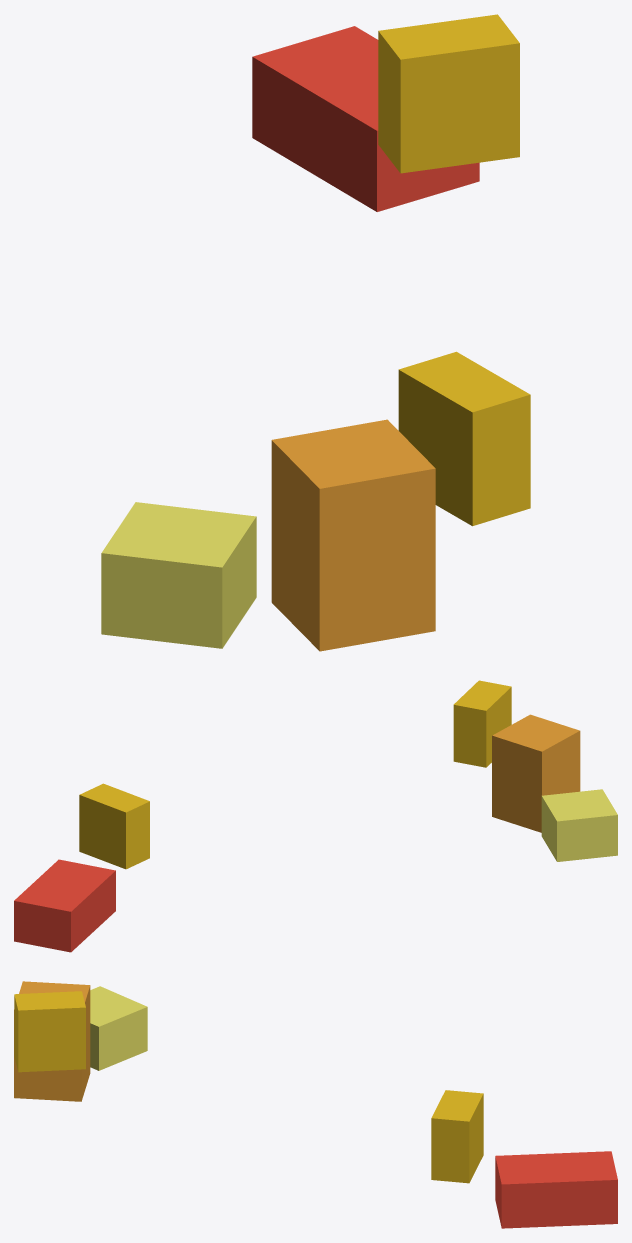
Rendered from Lvl02_Prototype.fbx.
3 renders of one model, top to bottom at view 1: azimuth 30°, elevation 25°; view 2: azimuth 150°, elevation 25°; view 3: azimuth 270°, elevation 25°, orthographic. The views are drawn at different scales.
Parts seen in each view (by area): view 1: HouseSET_lvl02; view 2: HouseSET_lvl02; view 3: HouseSET_lvl02.
Part boxes in pixels (box(x1,y1,x2,y2)): HouseSET_lvl02: box(101, 14, 530, 651); HouseSET_lvl02: box(14, 680, 617, 952); HouseSET_lvl02: box(14, 981, 617, 1228).
Bounding box in the file's own units: 4814 × 1289 × 6206.
